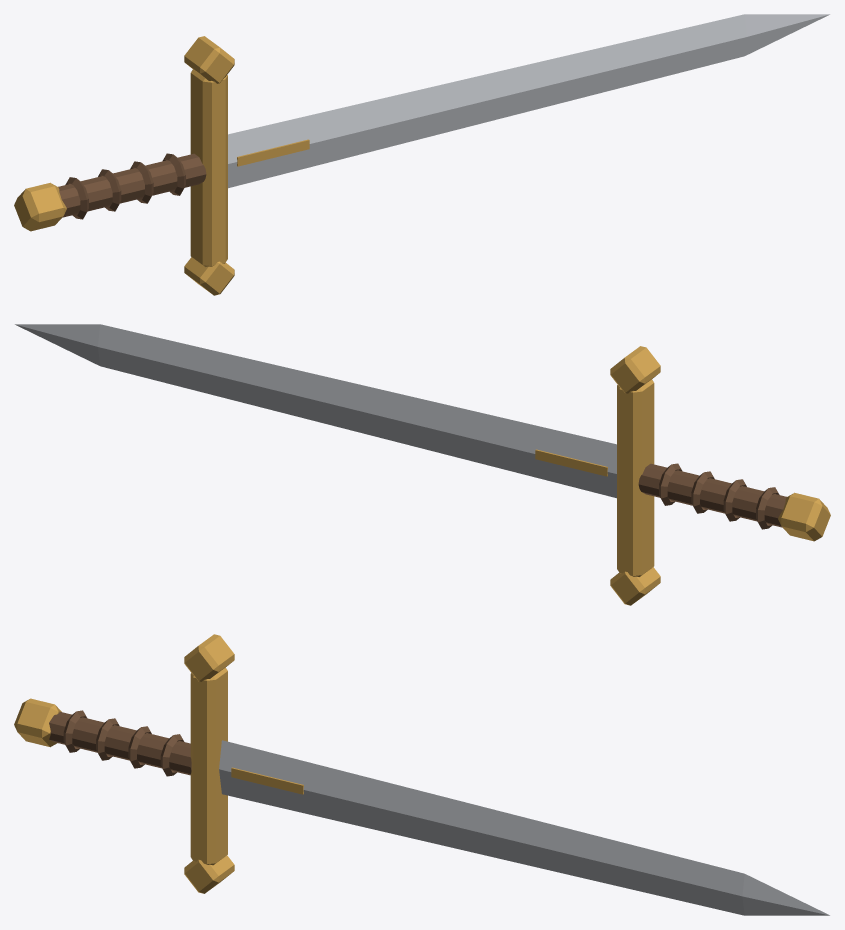
Rendered from SM_Sword.fbx.
3 renders of one model, top to bottom at view 1: azimuth 30°, elevation 25°; view 2: azimuth 150°, elevation 25°; view 3: azimuth 330°, elevation 25°, orthographic.
Parts seen in each view (by area): view 1: SM_Sword; view 2: SM_Sword; view 3: SM_Sword.
Boxes of the visible parts, x1,y1,x2,y2 form: SM_Sword: (14,14,829,295); SM_Sword: (15,324,830,605); SM_Sword: (14,634,829,915).
Size of the model in its own units: 113 by 32.81 by 5.23.
